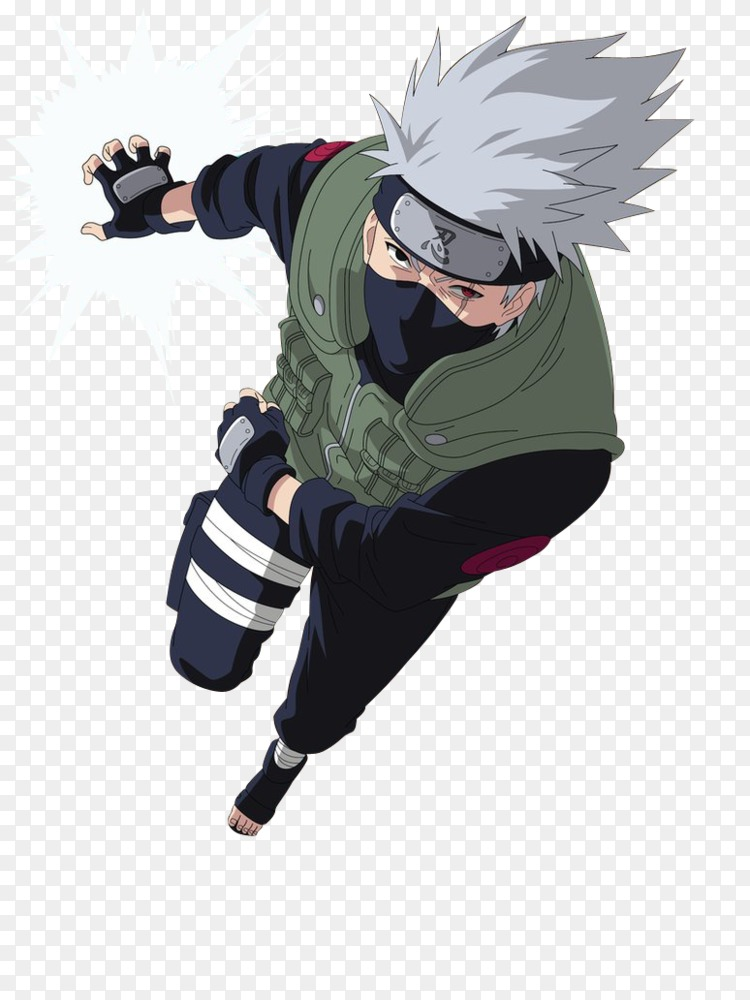kakashi: (361, 160, 566, 395)
